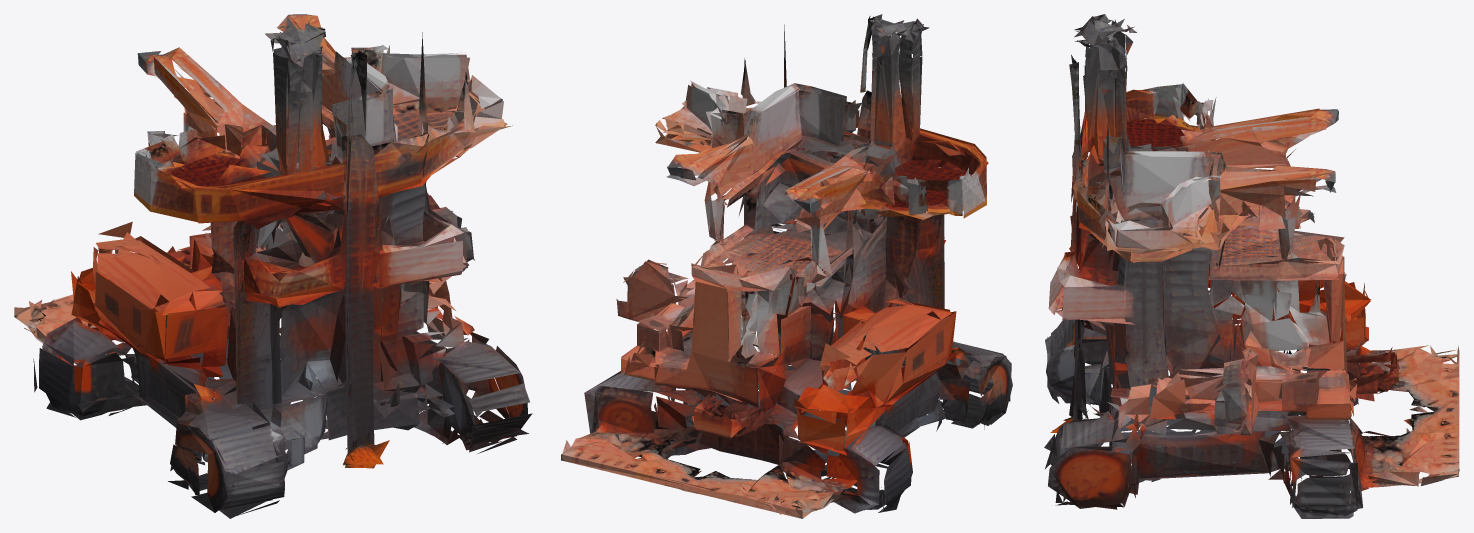
Rendered from driller_yard_t1.fbx.
3 views of the same model, side by side, from view 1: azimuth 30°, elevation 25°; view 2: azimuth 150°, elevation 25°; view 3: azimuth 270°, elevation 25° (orthographic). The views are drawn at different scales.
Parts seen in each view (by area): view 1: driller_yard_t1; view 2: driller_yard_t1; view 3: driller_yard_t1.
Part boxes in pixels (<box>): driller_yard_t1: <box>14,14,532,518</box>; driller_yard_t1: <box>561,14,1012,518</box>; driller_yard_t1: <box>1044,14,1459,518</box>.
Bounding box in the file's own units: 2.72 × 3.22 × 2.94.
Materials: 1 (1 with a texture image).
